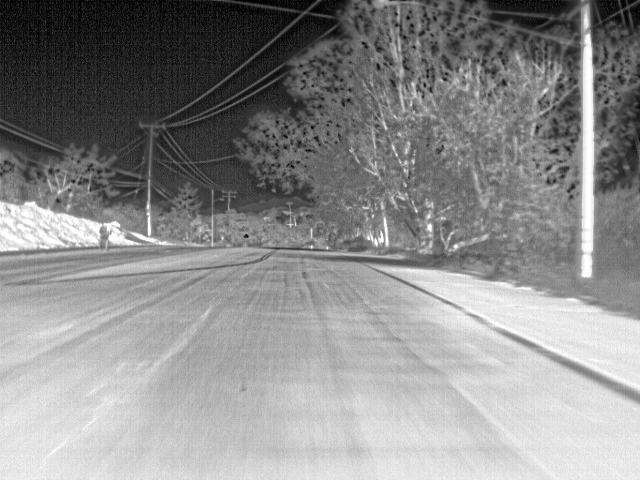person: (98, 221, 110, 251)
